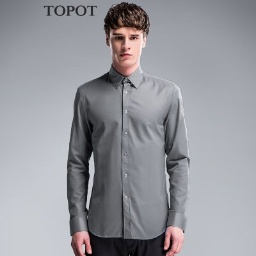face: (105, 3, 150, 69)
